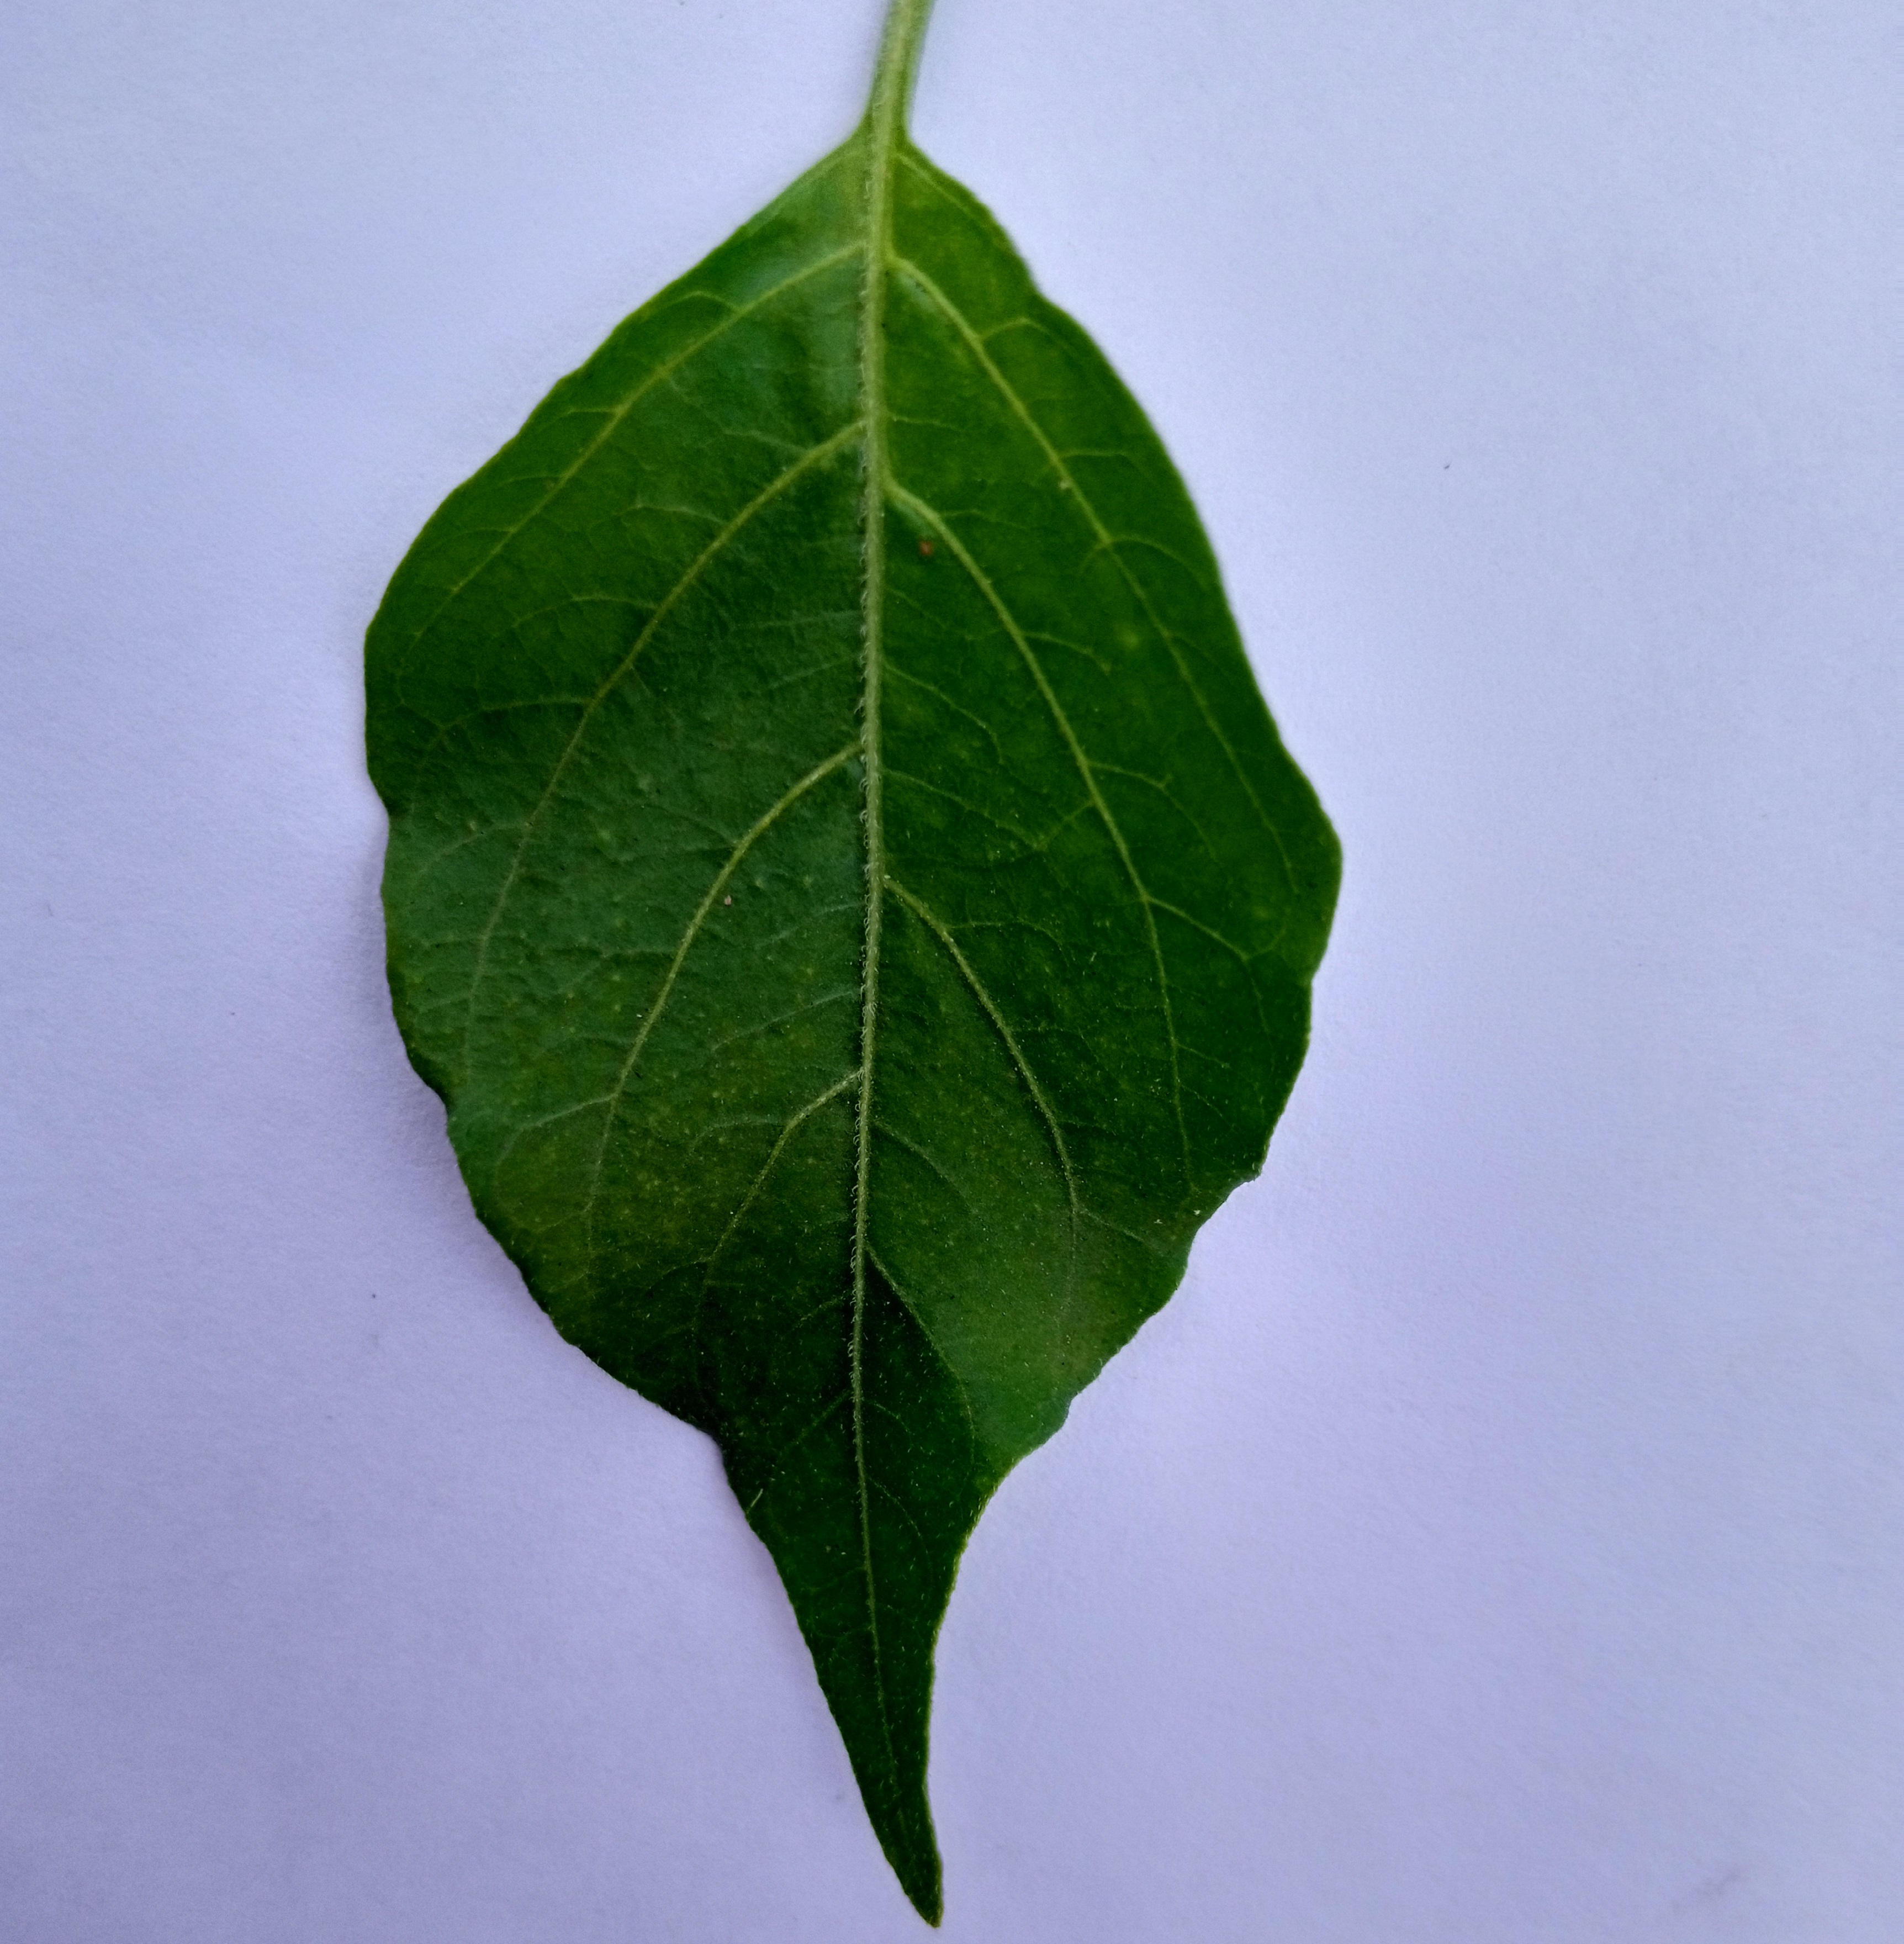Leaf: (213, 89, 1372, 1939)
